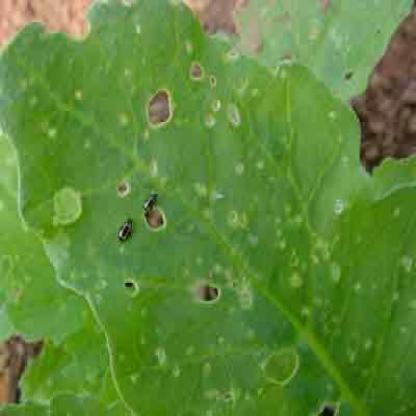beetle: (115, 216, 138, 244), (141, 191, 159, 214)
